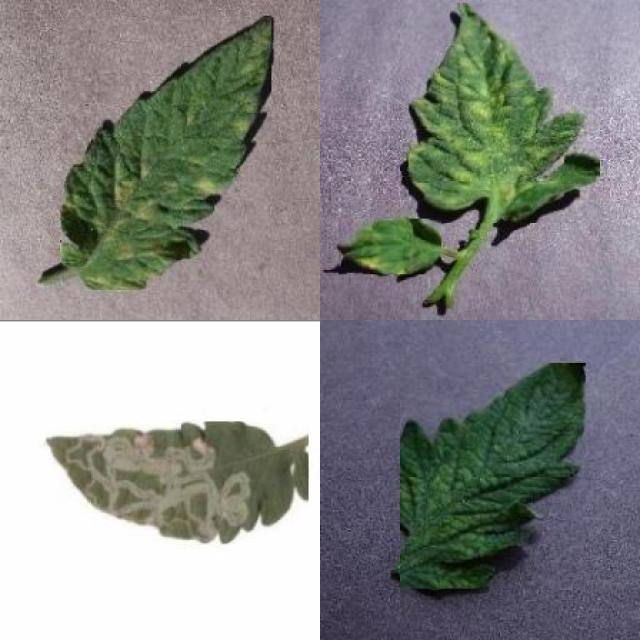Leaf Miner: (46, 422, 308, 545)
Leaf Mold: (61, 16, 272, 291), (409, 3, 600, 223), (338, 219, 442, 274)
Mosaic Virus: (400, 363, 586, 588)
